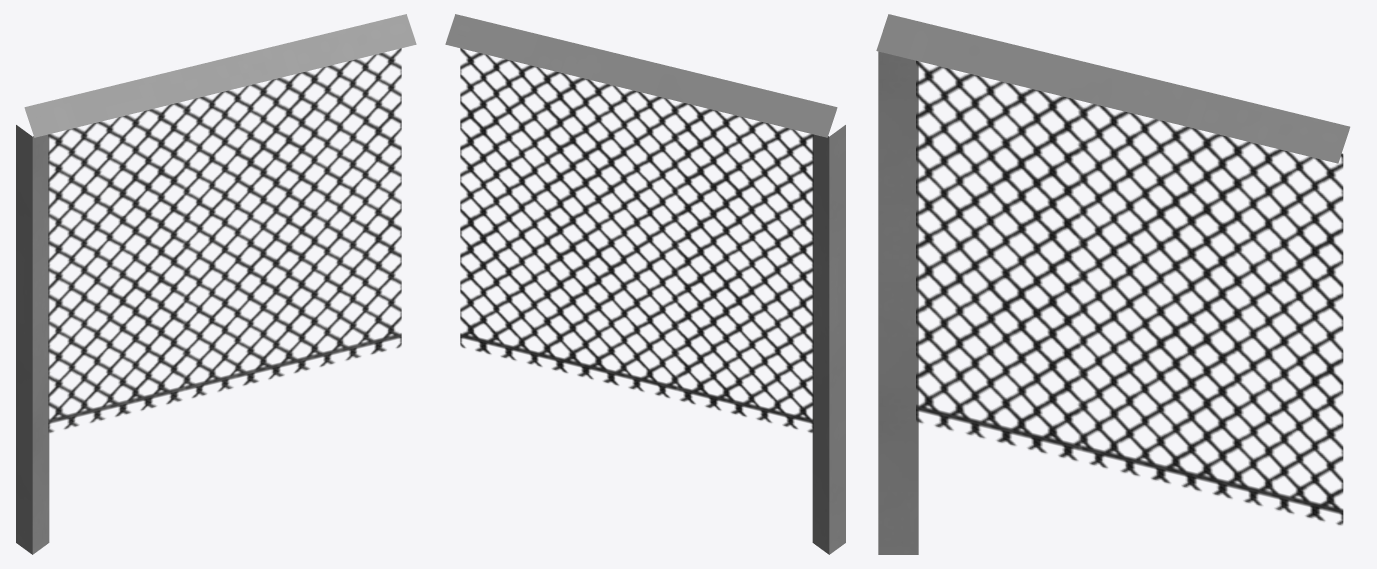
The model's file is fence-chainlink-1rail-1m-cbj_LOD01.gltf.
3 views of the same model, side by side, from view 1: azimuth 30°, elevation 25°; view 2: azimuth 150°, elevation 25°; view 3: azimuth 330°, elevation 25° (orthographic). The views are drawn at different scales.
Visible parts, largest first — view 1: chainlink01; view 2: chainlink01; view 3: chainlink01.
Part boxes in pixels (box(x1,y1,x2,y2)): chainlink01: box(16, 14, 416, 554); chainlink01: box(445, 14, 845, 554); chainlink01: box(876, 14, 1350, 554).
Size of what is drawn, in the model's own units: 1.21 by 1.33 by 0.11.
